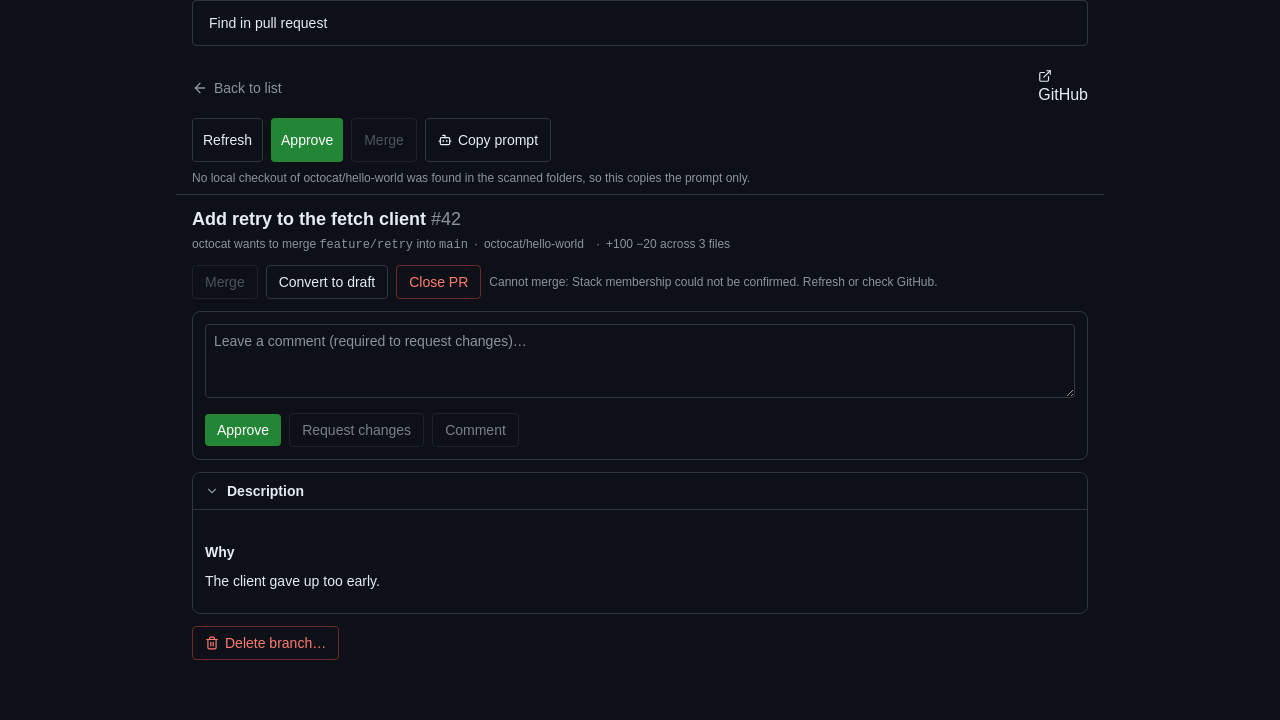
PrDetailView › delete branch › does not delete anything on the button's own click
Click the button "Delete branch…" at (266, 642), box [192,626,339,660]
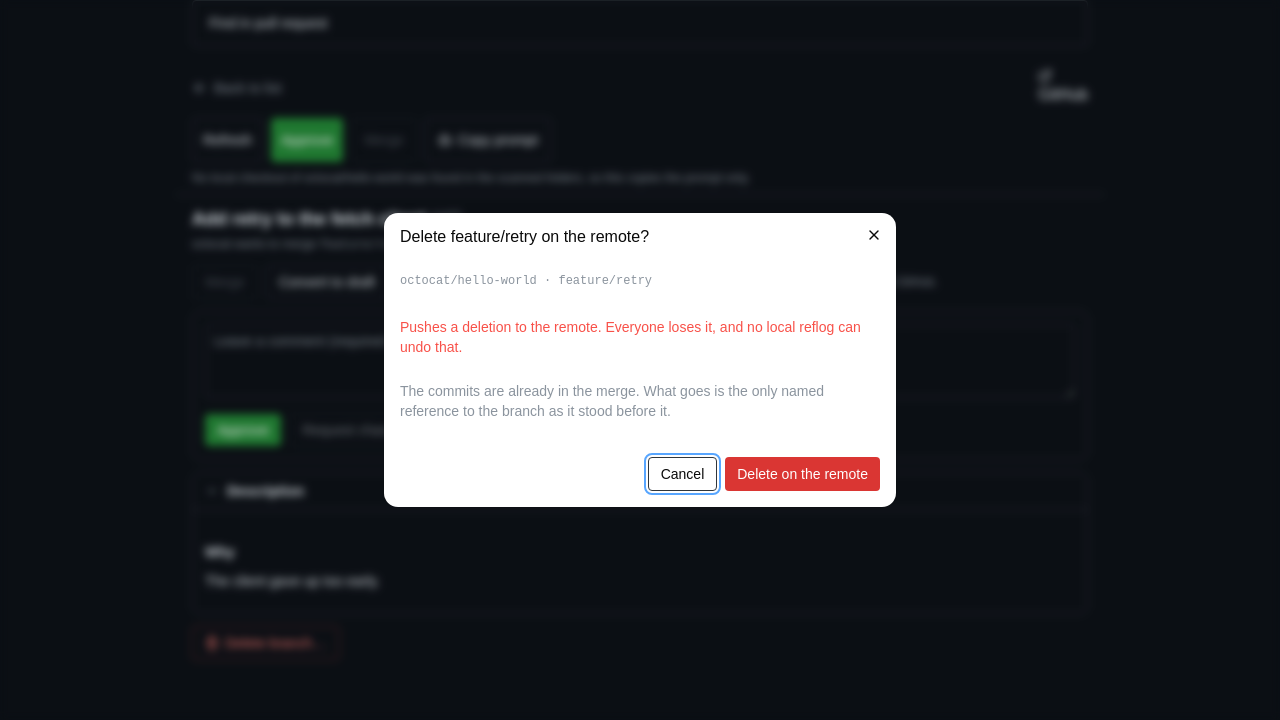
Check: the dialog is shown, box [384,213,896,507]
